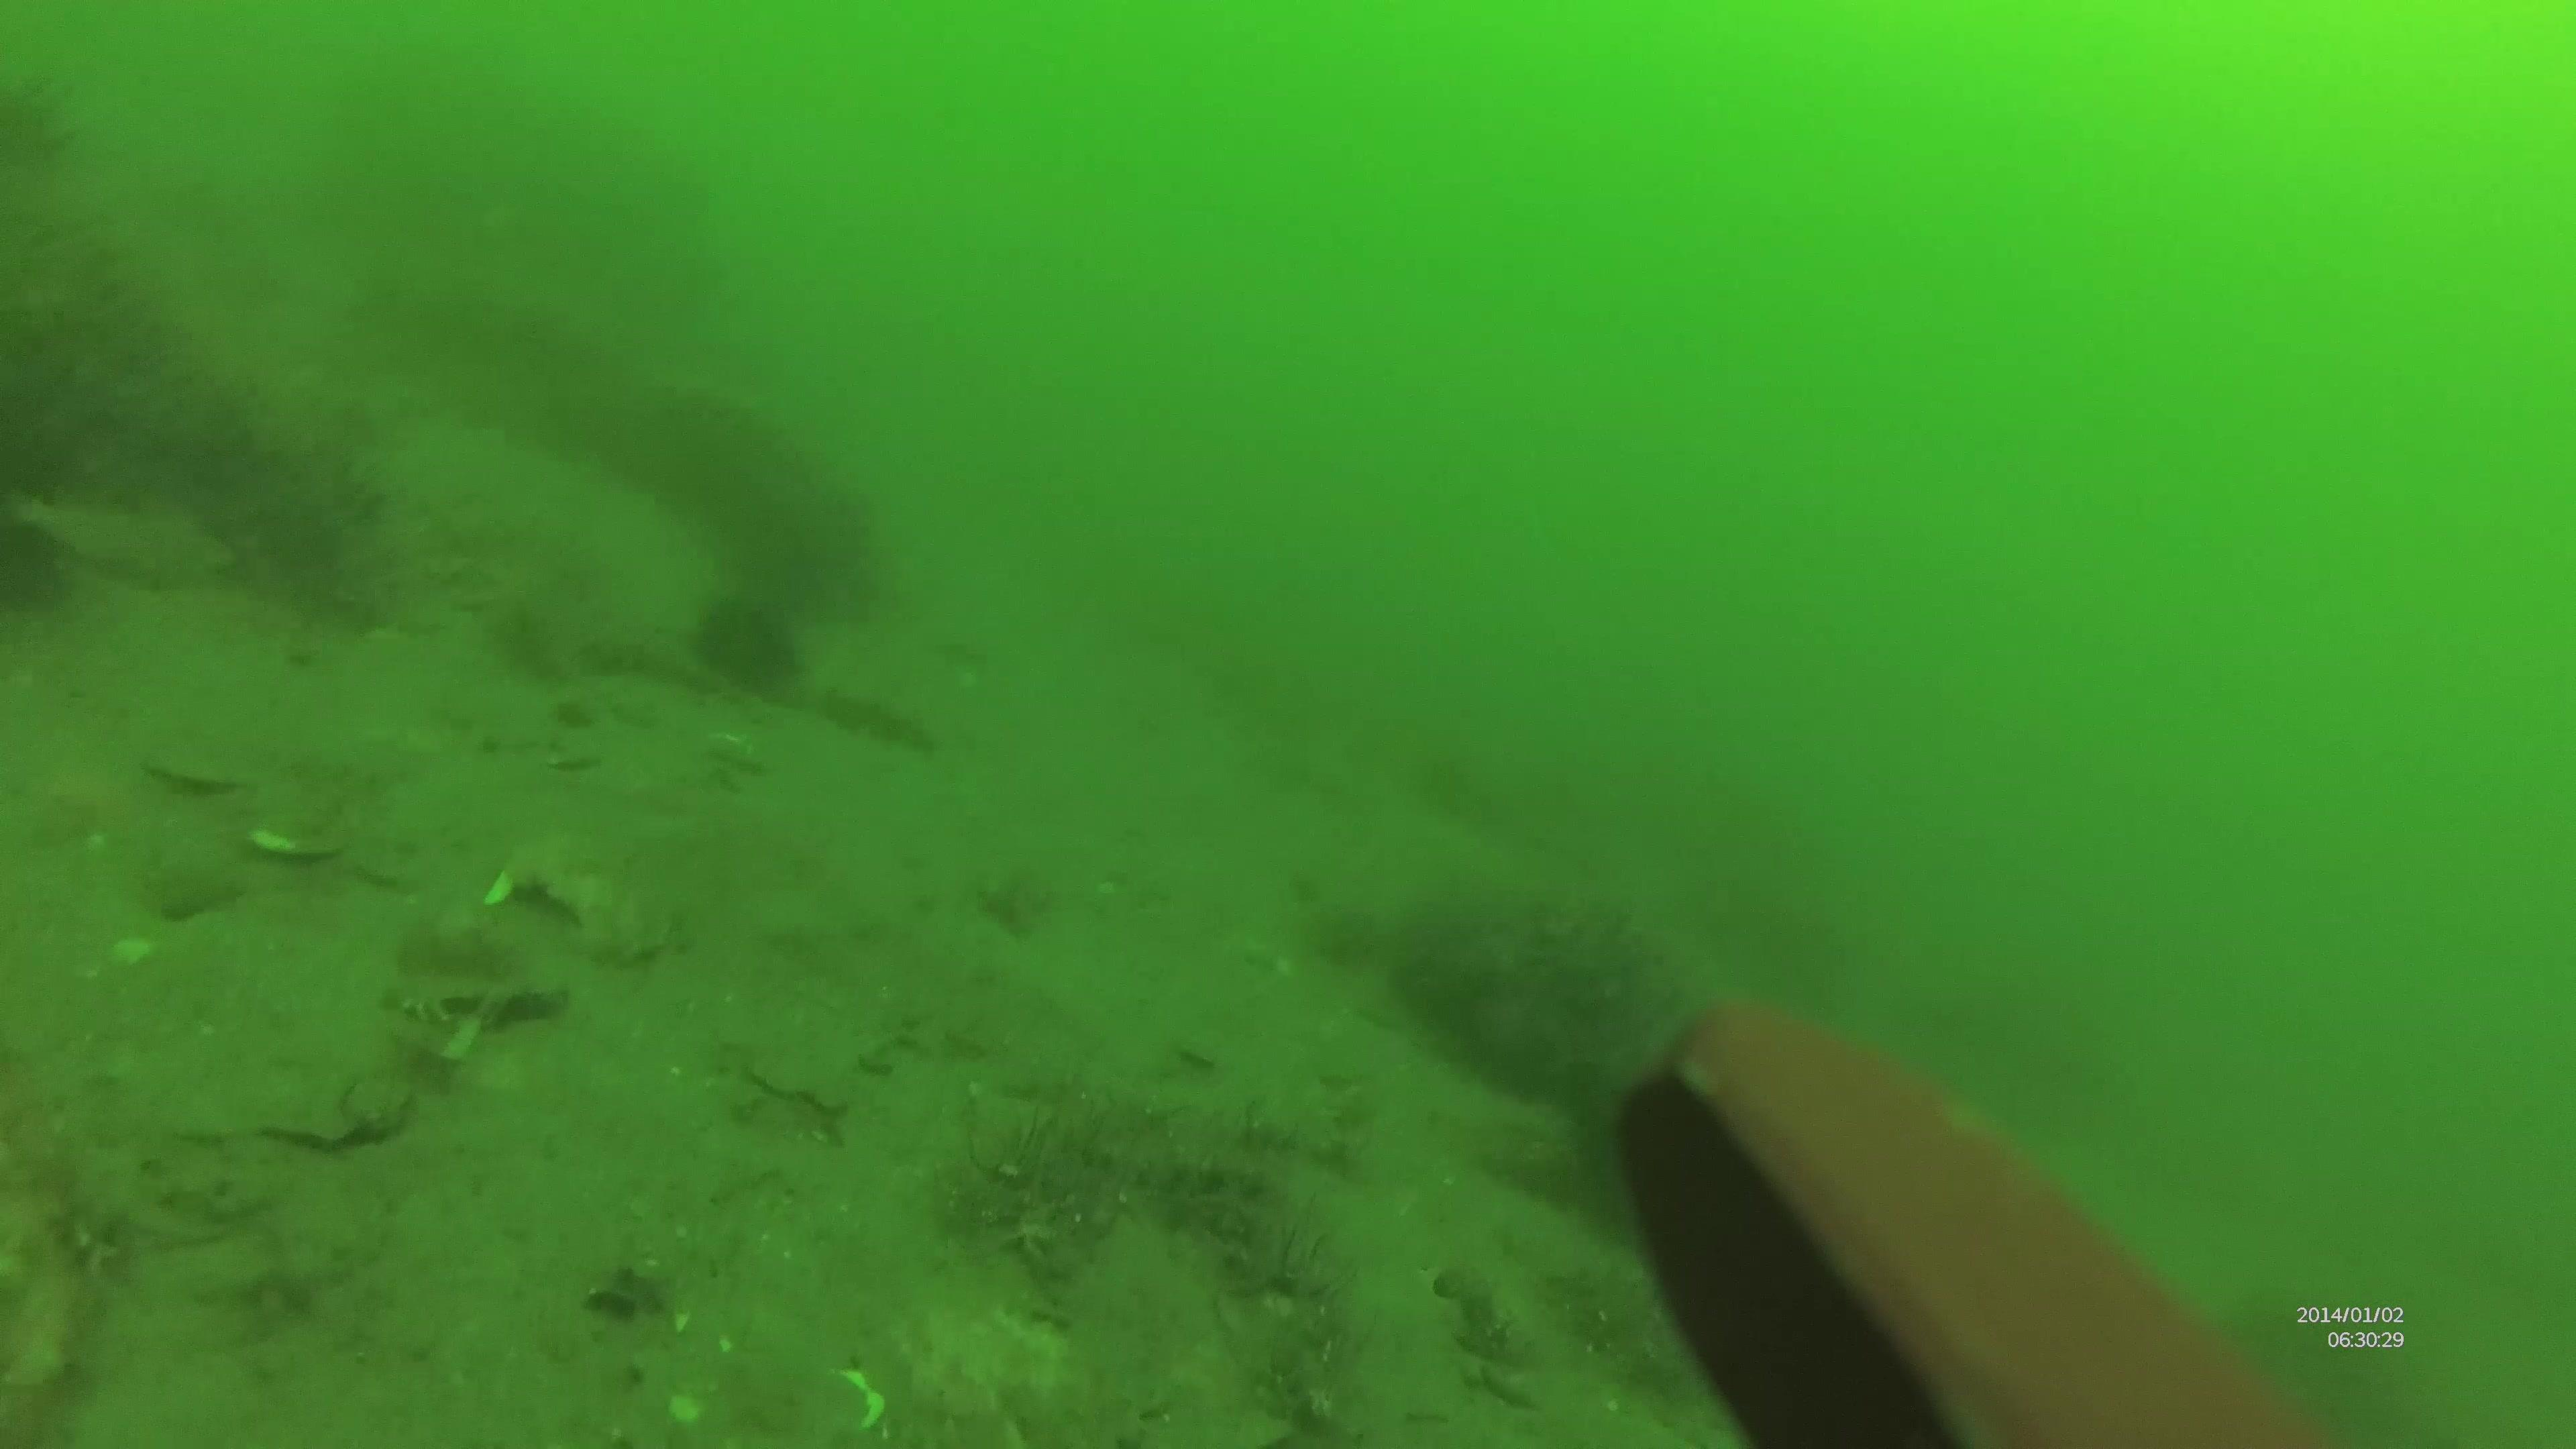echinus: (685, 580, 810, 701)
